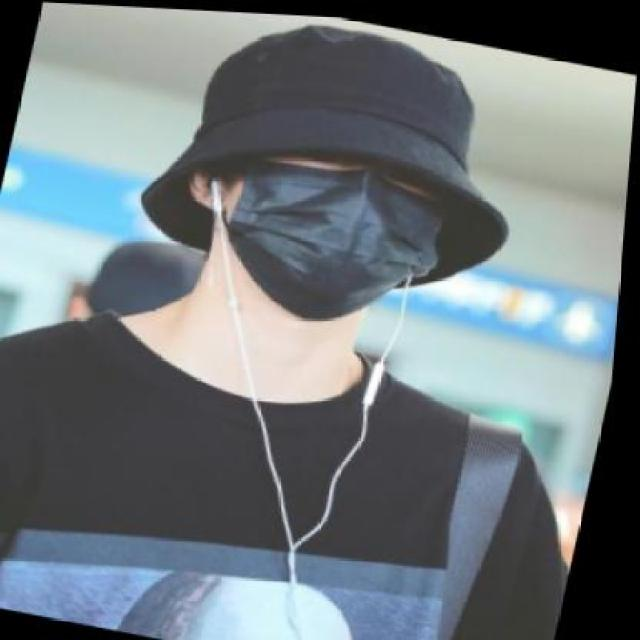hat: (139, 20, 511, 283)
